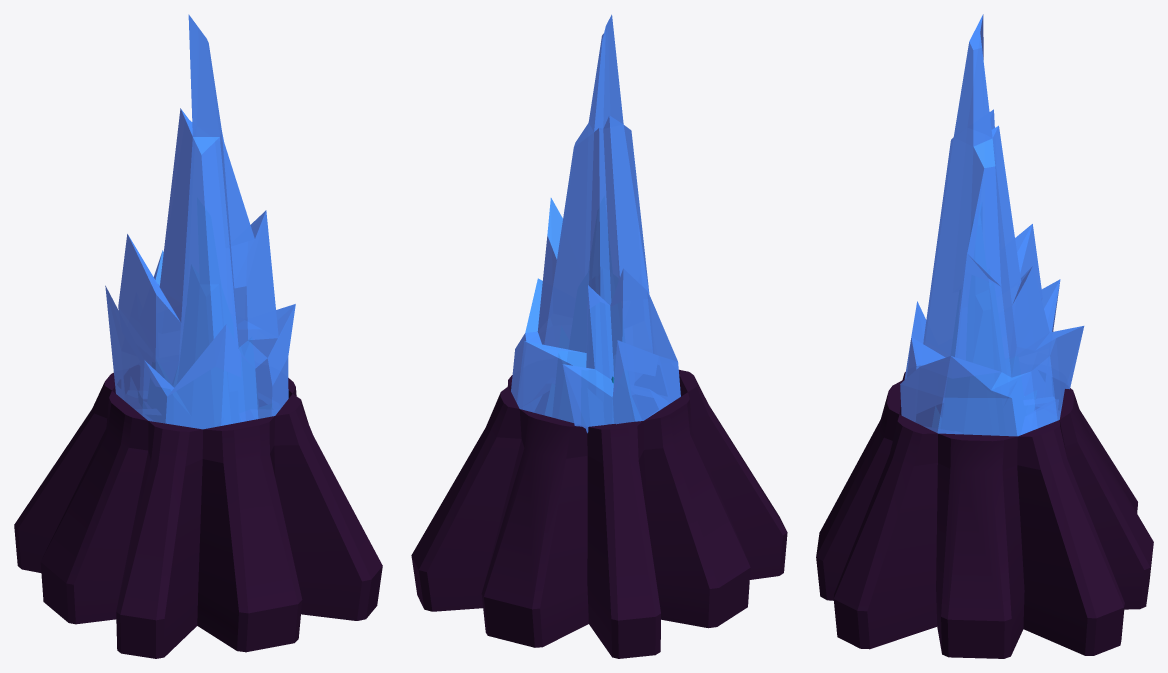
Rendered from ctower032.fbx.
3 renders of one model, left to right at view 1: azimuth 30°, elevation 25°; view 2: azimuth 150°, elevation 25°; view 3: azimuth 270°, elevation 25°, orthographic.
Parts seen in each view (by area): view 1: Куб, Cube; view 2: Куб, Cube; view 3: Куб, Cube.
Boxes of the visible parts, x1=… form: Куб: x1=14, y1=372, x2=382, y2=658; Cube: x1=105, y1=14, x2=295, y2=429; Куб: x1=411, y1=369, x2=787, y2=658; Cube: x1=511, y1=14, x2=680, y2=433; Куб: x1=816, y1=372, x2=1153, y2=658; Cube: x1=900, y1=14, x2=1084, y2=436.
Size of the model in its own units: 485 by 951 by 507.
